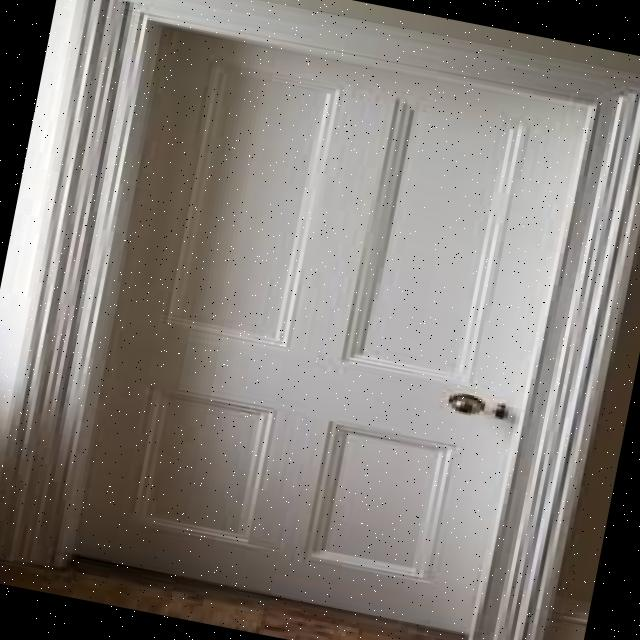Door: (28, 11, 599, 640)
